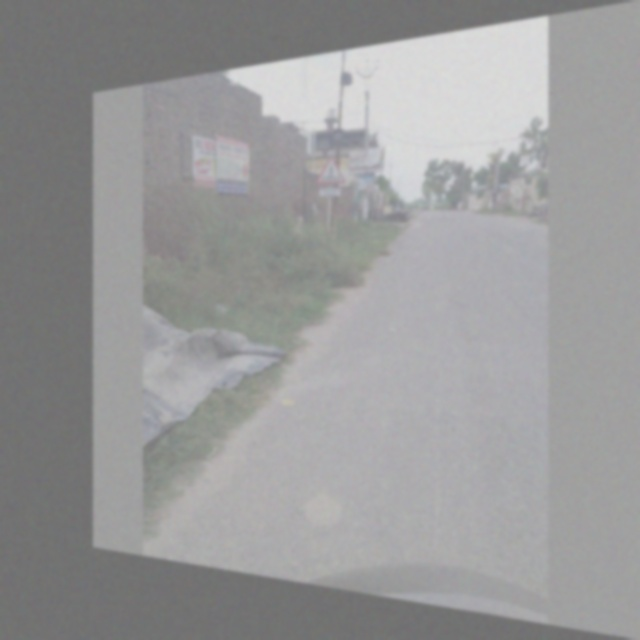Pedestrian_Crossing: (316, 156, 343, 190)
